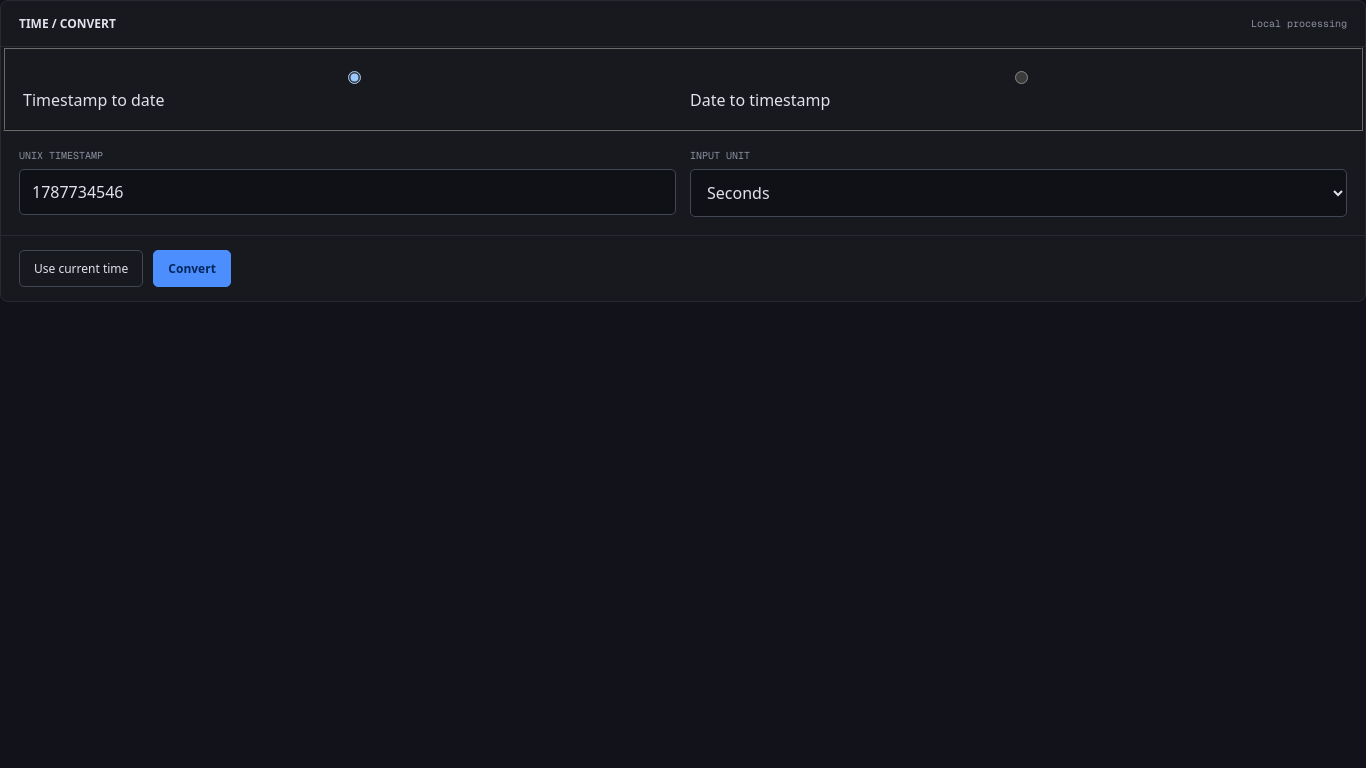
it: TimestampConverter � Level 1 core/common › shows UTC and local representations after the primary action
The image size is (1366, 768).
Replace the text in the field labelled "Unix timestamp" with "1710000000" at (348,192), box left=19, top=169, right=676, bottom=215
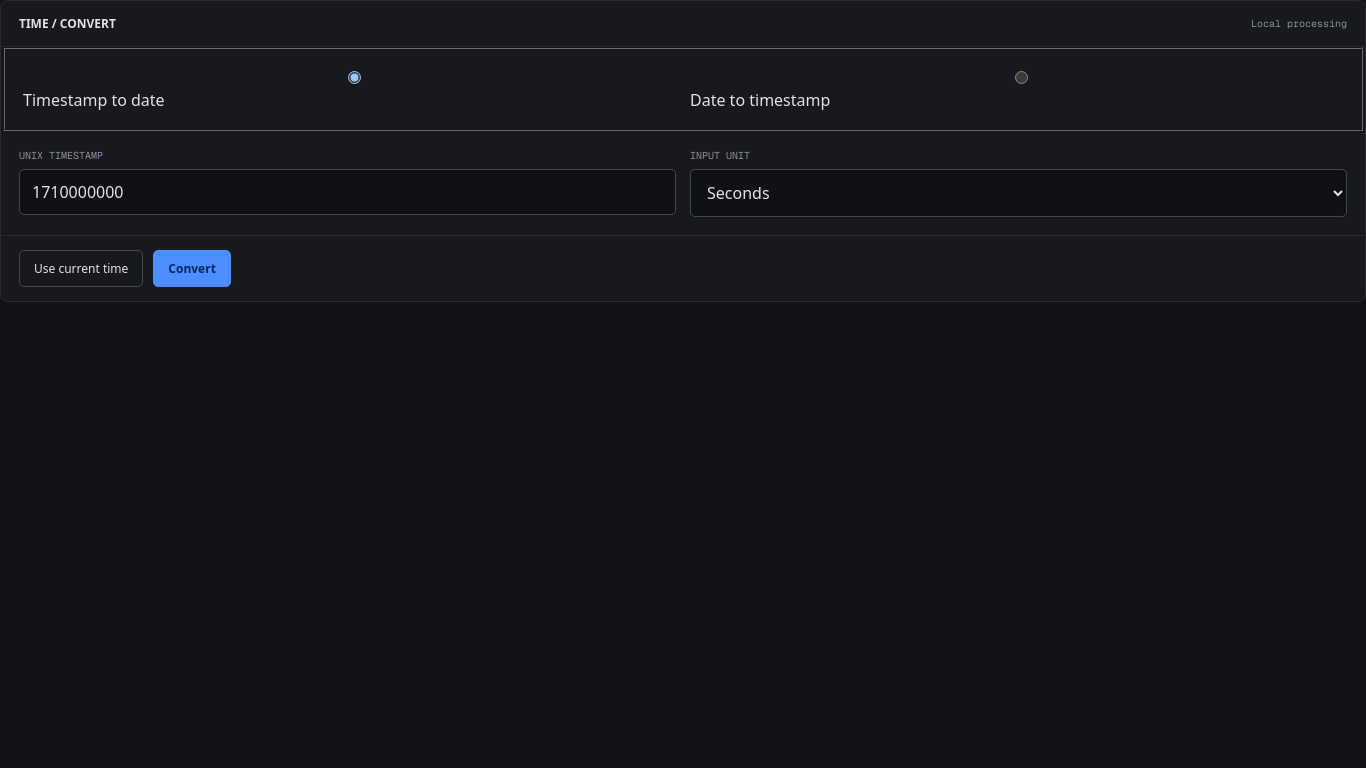
Click the button "Convert".
click(192, 268)  # box left=153, top=250, right=231, bottom=287
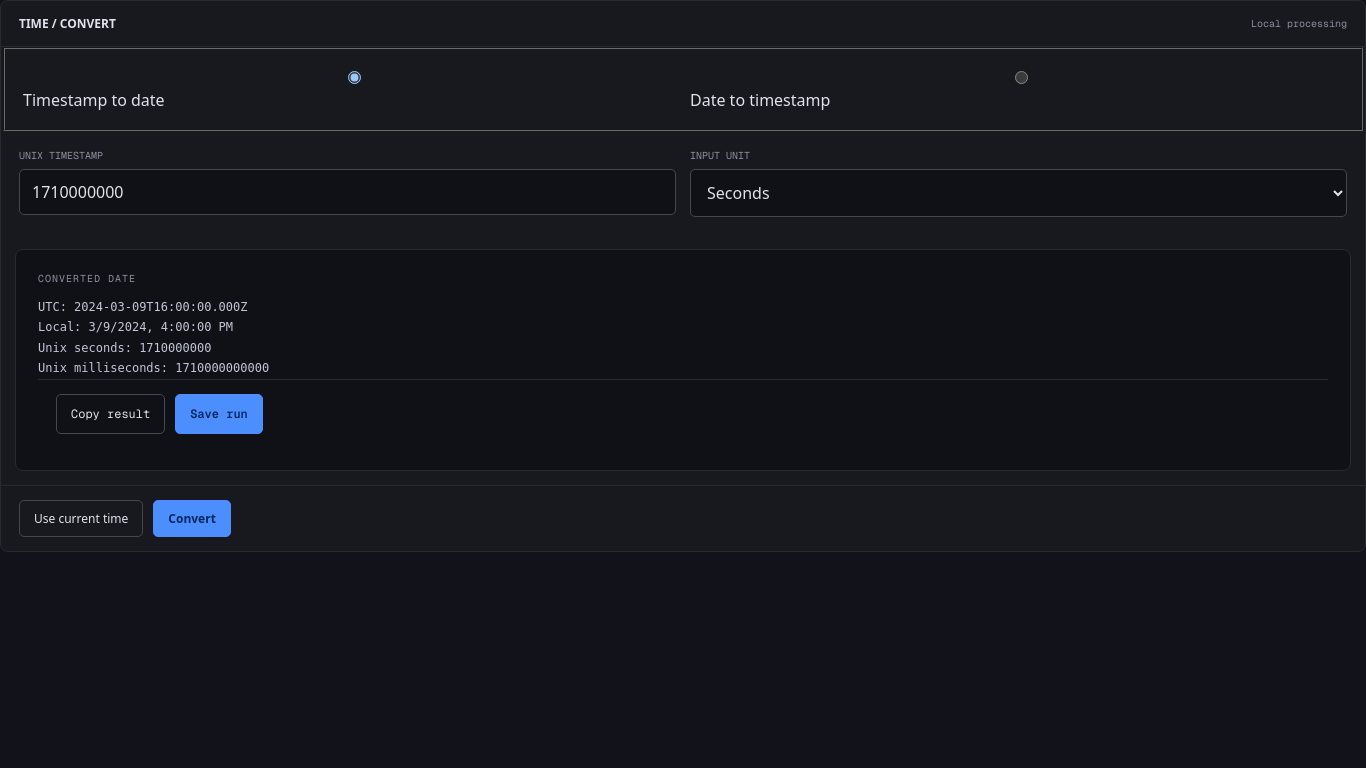
Check: the text "Converted date" is shown, box left=38, top=272, right=136, bottom=285
Check: the text "UTC: 2024-03-09T16:00:00.000Z" shows "Local:", box left=38, top=300, right=269, bottom=375
